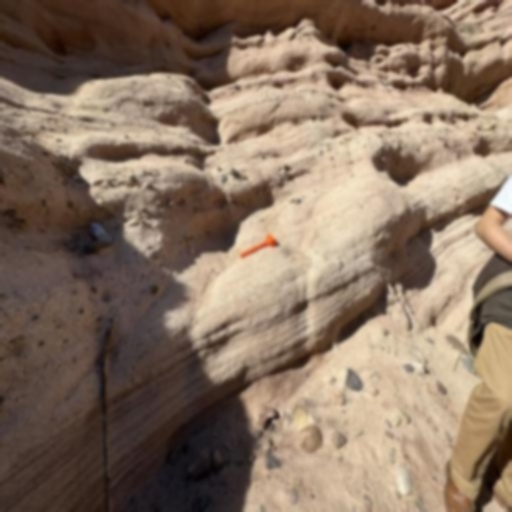mallet: (240, 234, 276, 258)
